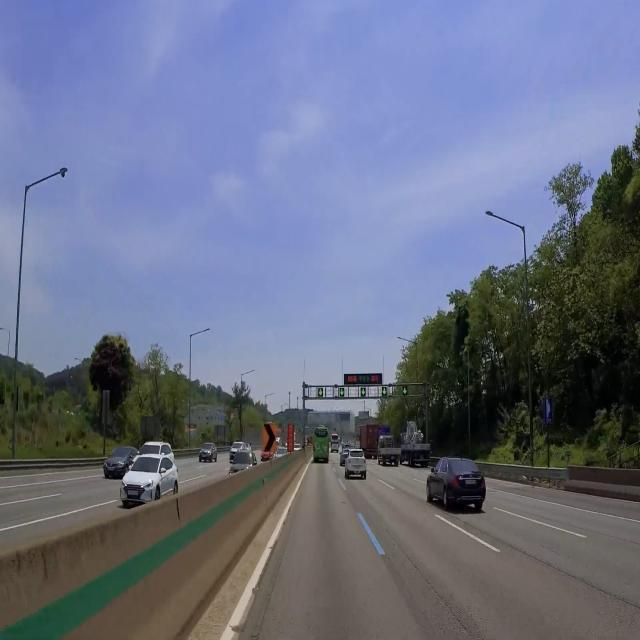car: (123, 488, 141, 504), (462, 476, 480, 488)
